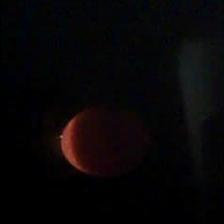fertile: (55, 100, 156, 182)
